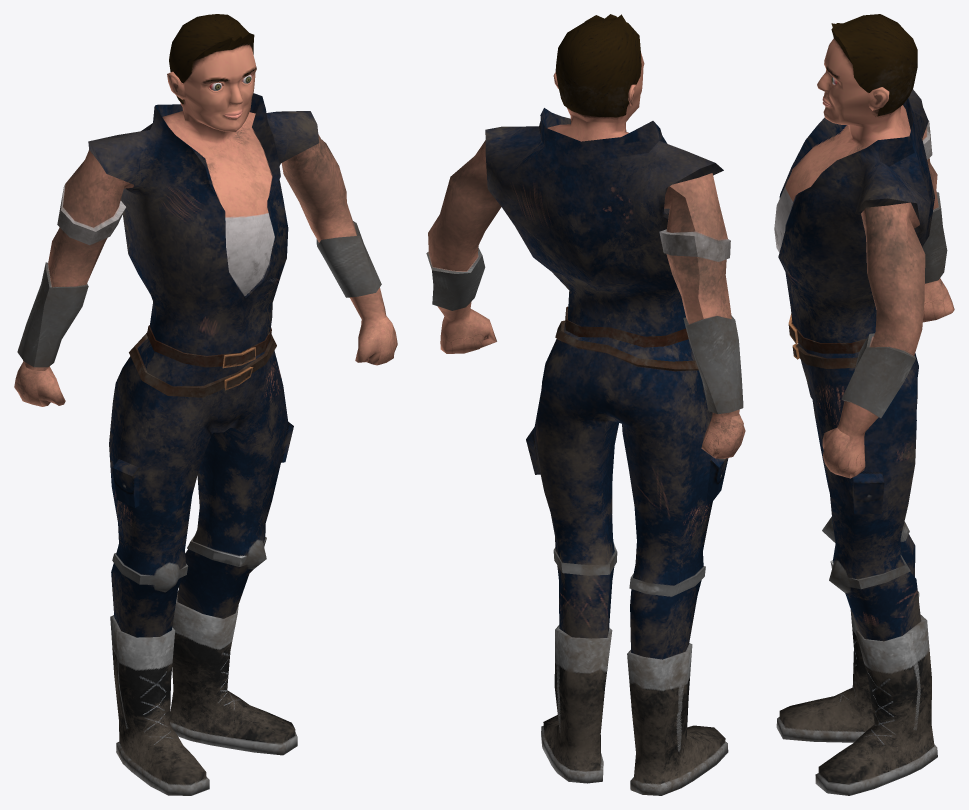
File: Anim_interruptor_jugador.0036.obj
The picture shows the model from 3 angles, left to right: view 1: azimuth 30°, elevation 25°; view 2: azimuth 150°, elevation 25°; view 3: azimuth 270°, elevation 25°; orthographic projection. The views are drawn at different scales.
Parts seen in each view (by area): view 1: polySurface1; view 2: polySurface1; view 3: polySurface1.
Part boxes in pixels (bbox=[...]): polySurface1: bbox=[14, 14, 397, 795]; polySurface1: bbox=[426, 14, 745, 795]; polySurface1: bbox=[774, 14, 954, 795].
Bounding box in the file's own units: 4.63 × 9.62 × 2.11.
